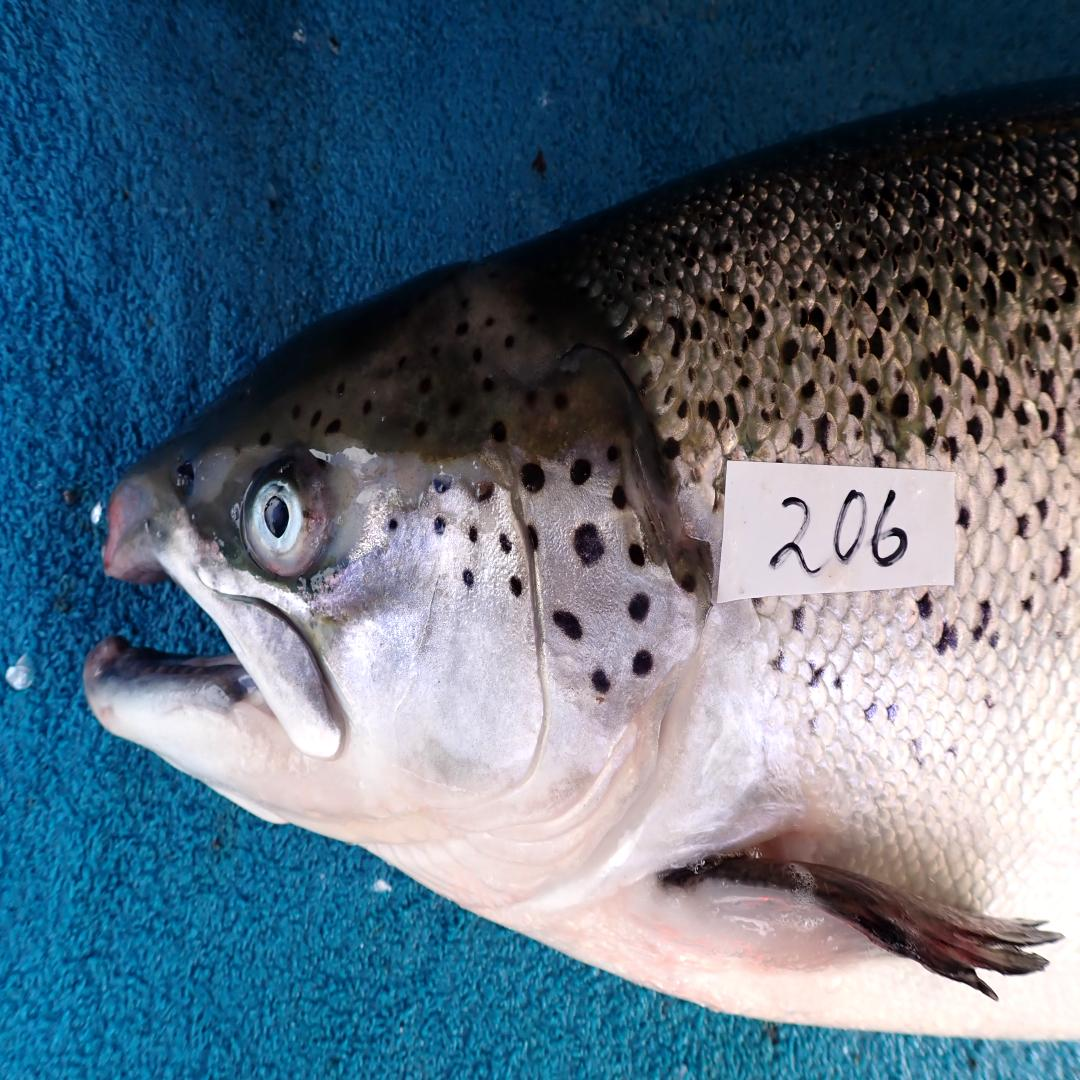roi: (336, 445, 699, 917)
